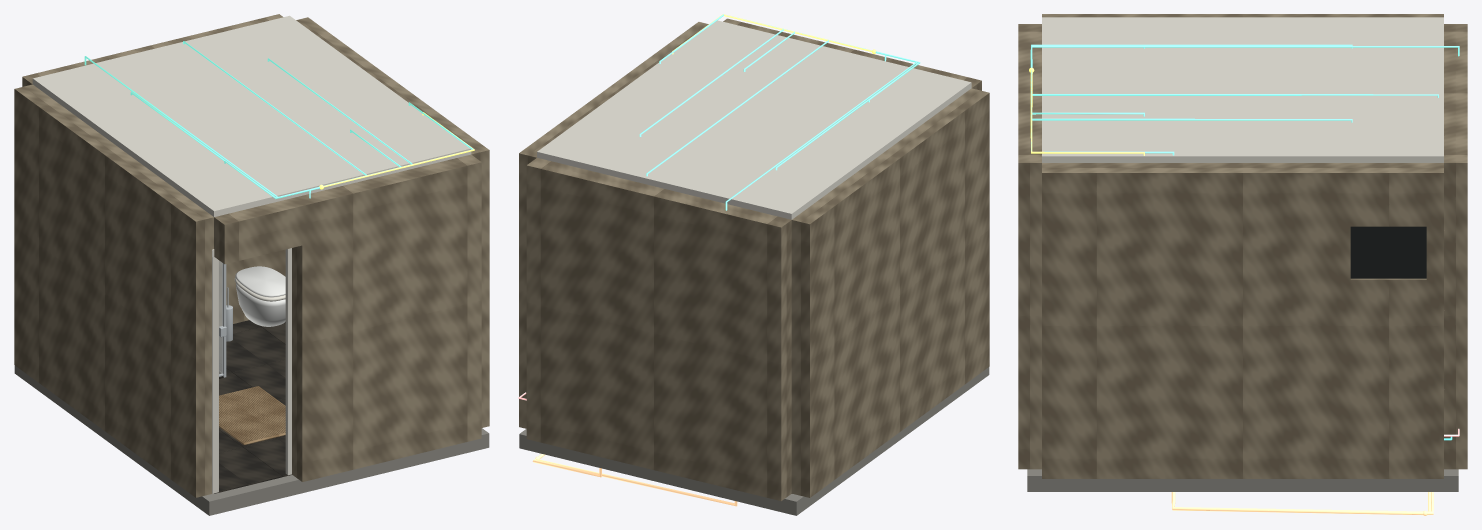
Rendered from 17_Alternatif_3_a.glb.
3 views of the same model, side by side, from view 1: azimuth 30°, elevation 25°; view 2: azimuth 150°, elevation 25°; view 3: azimuth 270°, elevation 25° (orthographic). The views are drawn at different scales.
Visible parts, largest first — view 1: Ön duvar | sunum için gizli, Sol duvar, Tavan | plan görünümünde gizlenir, Zemin taşıyıcı, Sağ duvar / gerçek pencere boşluğu, Dokulu banyo paspası, Zemin seramik / derz 2mm.013, Zemin seramik / derz 2mm, Kapı pervazı, 103x20cm tam boy rezervuar çıkıntısı, Kapı pervazı.001, Arka duvar / gerçek niş boşlukları (+4 smaller); view 2: Arka duvar / gerçek niş boşlukları, Sol duvar, Tavan | plan görünümünde gizlenir, Zemin taşıyıcı, Sağ duvar / gerçek pencere boşluğu, Ön duvar | sunum için gizli, G3-hat | Duş süzgeci alt bağlantısı → ana gider, E8-hat | Duş nişi LED kablo yolu; view 3: Sağ duvar / gerçek pencere boşluğu, Tavan | plan görünümünde gizlenir, Arka duvar / gerçek niş boşlukları, Ön duvar | sunum için gizli, Zemin taşıyıcı, Havalandırma karanlık iç boşluğu, Sol duvar, G1-hat | Lavabo gider çıkışı → ana gider, E8-hat | Duş nişi LED kablo yolu, E9-hat | WC nişi LED 1 kablo yolu, E-7 | Tavan ışığı 4 güzergâhı, E-6 | Tavan ışığı 3 güzergâhı.
Boxes of the visible parts, box(x1,y1,x2,y2) form: Ön duvar | sunum için gizli: box(214, 154, 481, 481); Sol duvar: box(14, 84, 213, 497); Tavan | plan görünümünde gizlenir: box(32, 15, 471, 216); Zemin taşıyıcı: box(14, 365, 489, 515); Sağ duvar / gerçek pencere boşluğu: box(296, 17, 489, 427); Dokulu banyo paspası: box(219, 386, 285, 445); Zemin seramik / derz 2mm.013: box(219, 327, 285, 372); Zemin seramik / derz 2mm: box(214, 447, 282, 493); Kapı pervazı: box(212, 257, 218, 493); 103x20cm tam boy rezervuar çıkıntısı: box(219, 249, 285, 326); Kapı pervazı.001: box(285, 248, 291, 475); Arka duvar / gerçek niş boşlukları: box(22, 14, 283, 86); Arka duvar / gerçek niş boşlukları: box(526, 158, 791, 501); Sol duvar: box(791, 88, 989, 497); Tavan | plan görünümünde gizlenir: box(537, 20, 971, 219); Zemin taşıyıcı: box(519, 367, 989, 515); Sağ duvar / gerçek pencere boşluğu: box(519, 22, 708, 428); Ön duvar | sunum için gizli: box(723, 18, 981, 90); G3-hat | Duş süzgeci alt bağlantısı → ana gider: box(536, 458, 737, 506); E8-hat | Duş nişi LED kablo yolu: box(725, 51, 917, 210); Sağ duvar / gerçek pencere boşluğu: box(1042, 163, 1443, 478); Tavan | plan görünümünde gizlenir: box(1042, 17, 1443, 162); Arka duvar / gerçek niş boşlukları: box(1444, 24, 1467, 469); Ön duvar | sunum için gizli: box(1018, 24, 1041, 469); Zemin taşıyıcı: box(1027, 469, 1458, 491); Havalandırma karanlık iç boşluğu: box(1350, 226, 1426, 278); Sol duvar: box(1042, 14, 1443, 17); G1-hat | Lavabo gider çıkışı → ana gider: box(1171, 492, 1423, 515); E8-hat | Duş nişi LED kablo yolu: box(1031, 45, 1459, 67); E9-hat | WC nişi LED 1 kablo yolu: box(1031, 70, 1438, 97); E-7 | Tavan ışığı 4 güzergâhı: box(1031, 73, 1352, 122); E-6 | Tavan ışığı 3 güzergâhı: box(1032, 44, 1352, 48).
Size of the model in its own units: 2.57 by 2.72 by 3.07.
Materials: 22 (4 with a texture image).
